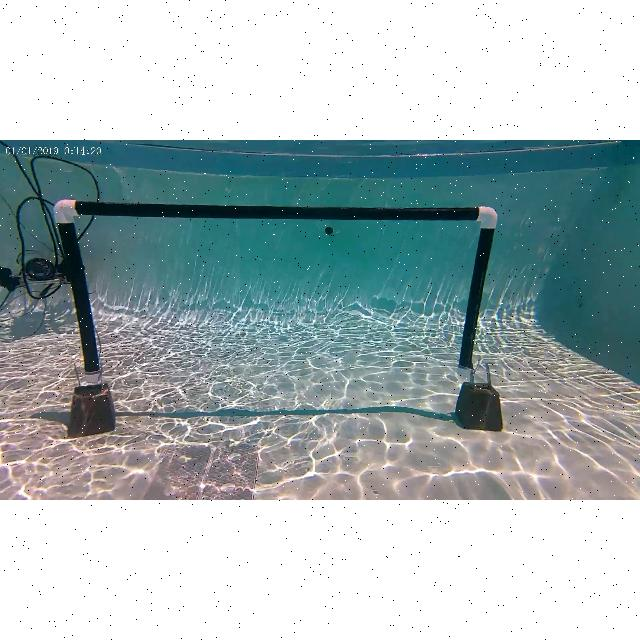prequal gate: (54, 199, 498, 383)
prequal gate leg l: (47, 199, 113, 427)
prequal gate leg r: (461, 207, 501, 429)
